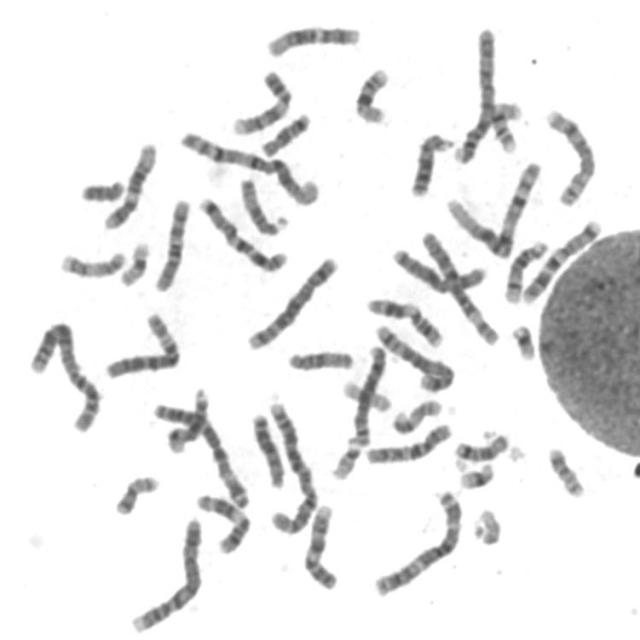A1: (174, 125, 323, 208), (440, 153, 544, 260)
A2: (23, 314, 104, 434), (260, 395, 319, 536)
A3: (148, 396, 252, 511), (366, 482, 466, 598)
B4: (124, 511, 206, 636), (470, 19, 521, 154)
B5: (241, 249, 341, 351), (370, 318, 458, 394)
C10: (361, 417, 454, 467), (148, 191, 192, 293)
C11: (361, 290, 446, 349), (190, 488, 252, 556)
C12: (98, 135, 159, 231), (260, 18, 362, 59)
C6: (416, 223, 502, 346), (100, 306, 183, 381)
C7: (192, 190, 290, 274), (516, 212, 604, 304)
C8: (540, 102, 599, 208), (344, 338, 389, 449)
C9: (226, 63, 294, 137), (297, 498, 341, 591)
D13: (404, 125, 457, 198), (246, 407, 287, 489)
D14: (499, 234, 552, 305), (162, 381, 212, 455)
D15: (234, 170, 290, 237), (282, 342, 357, 373)
E16: (349, 61, 392, 125), (491, 100, 525, 156)
E17: (54, 243, 128, 280), (385, 392, 445, 436)
E18: (255, 106, 312, 158), (449, 426, 511, 465)
F19: (337, 373, 392, 414), (114, 235, 152, 288)
F20: (542, 440, 588, 500), (108, 468, 161, 517)
G21: (452, 455, 497, 491), (506, 317, 538, 362)
G22: (325, 434, 364, 481), (467, 502, 504, 548)
X: (384, 241, 490, 295)
Y: (75, 173, 126, 204)
